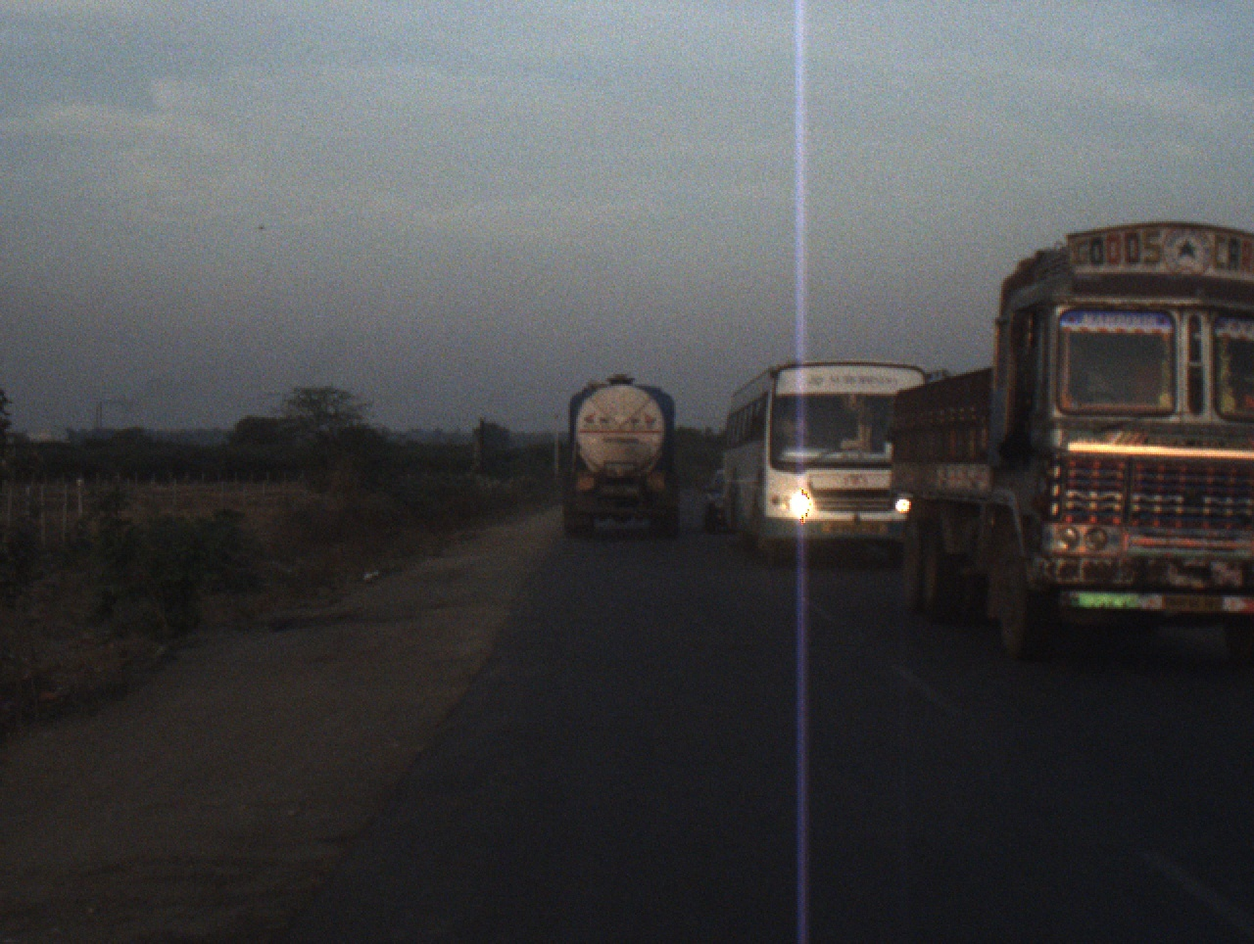bus: (719, 361, 929, 580)
car: (708, 465, 735, 531)
truck: (892, 205, 1254, 661), (555, 368, 683, 543)
